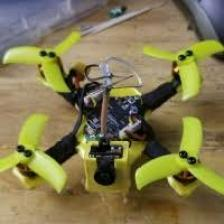drone: (0, 25, 224, 206)
